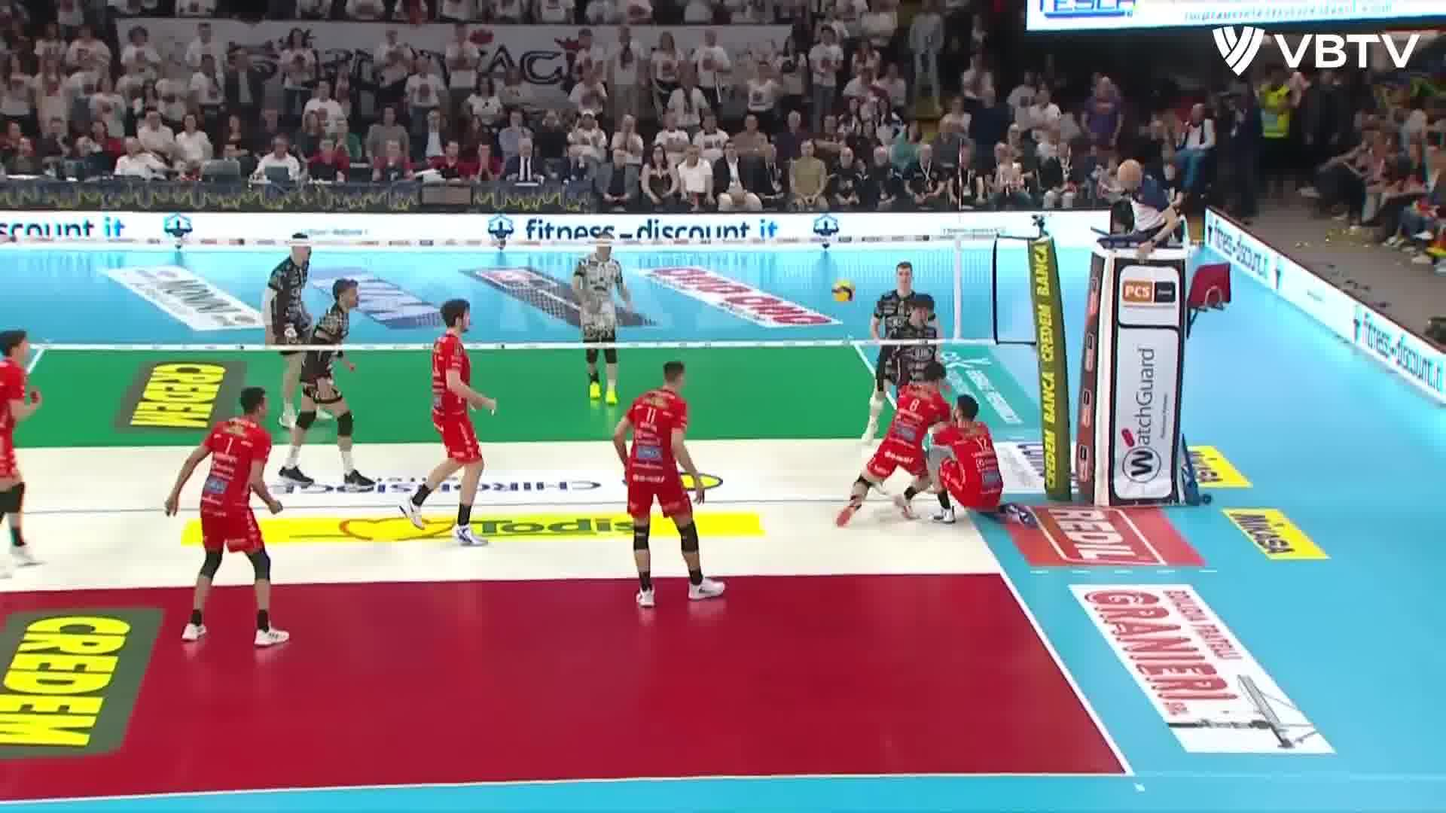balls: (831, 279, 857, 303)
